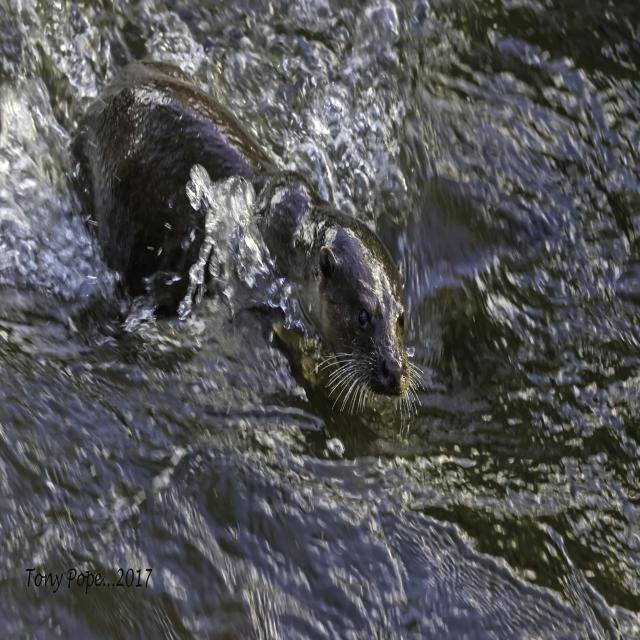otter: (279, 181, 415, 400)
